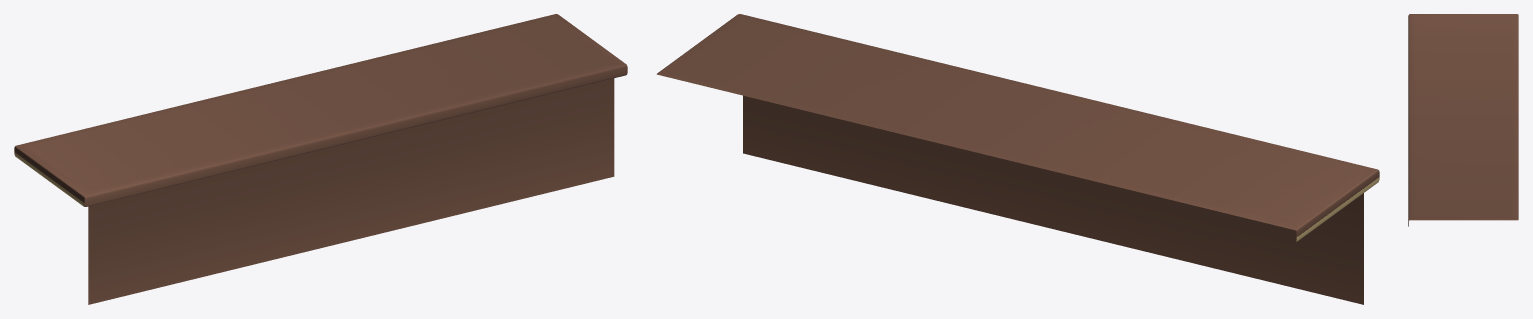
Rendered from comptoir.fbx.
3 renders of one model, left to right at view 1: azimuth 30°, elevation 25°; view 2: azimuth 150°, elevation 25°; view 3: azimuth 270°, elevation 25°, orthographic. The views are drawn at different scales.
Parts seen in each view (by area): view 1: comptoir; view 2: comptoir; view 3: comptoir.
Boxes of the visible parts, x1,y1,x2,y2 form: comptoir: [14, 14, 627, 304]; comptoir: [656, 14, 1379, 304]; comptoir: [1408, 14, 1518, 226].
Bounding box in the file's own units: 516 × 103 × 116.
